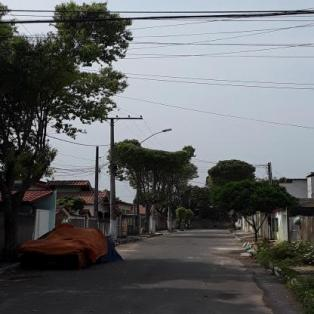Poste: (108, 116, 120, 240)
